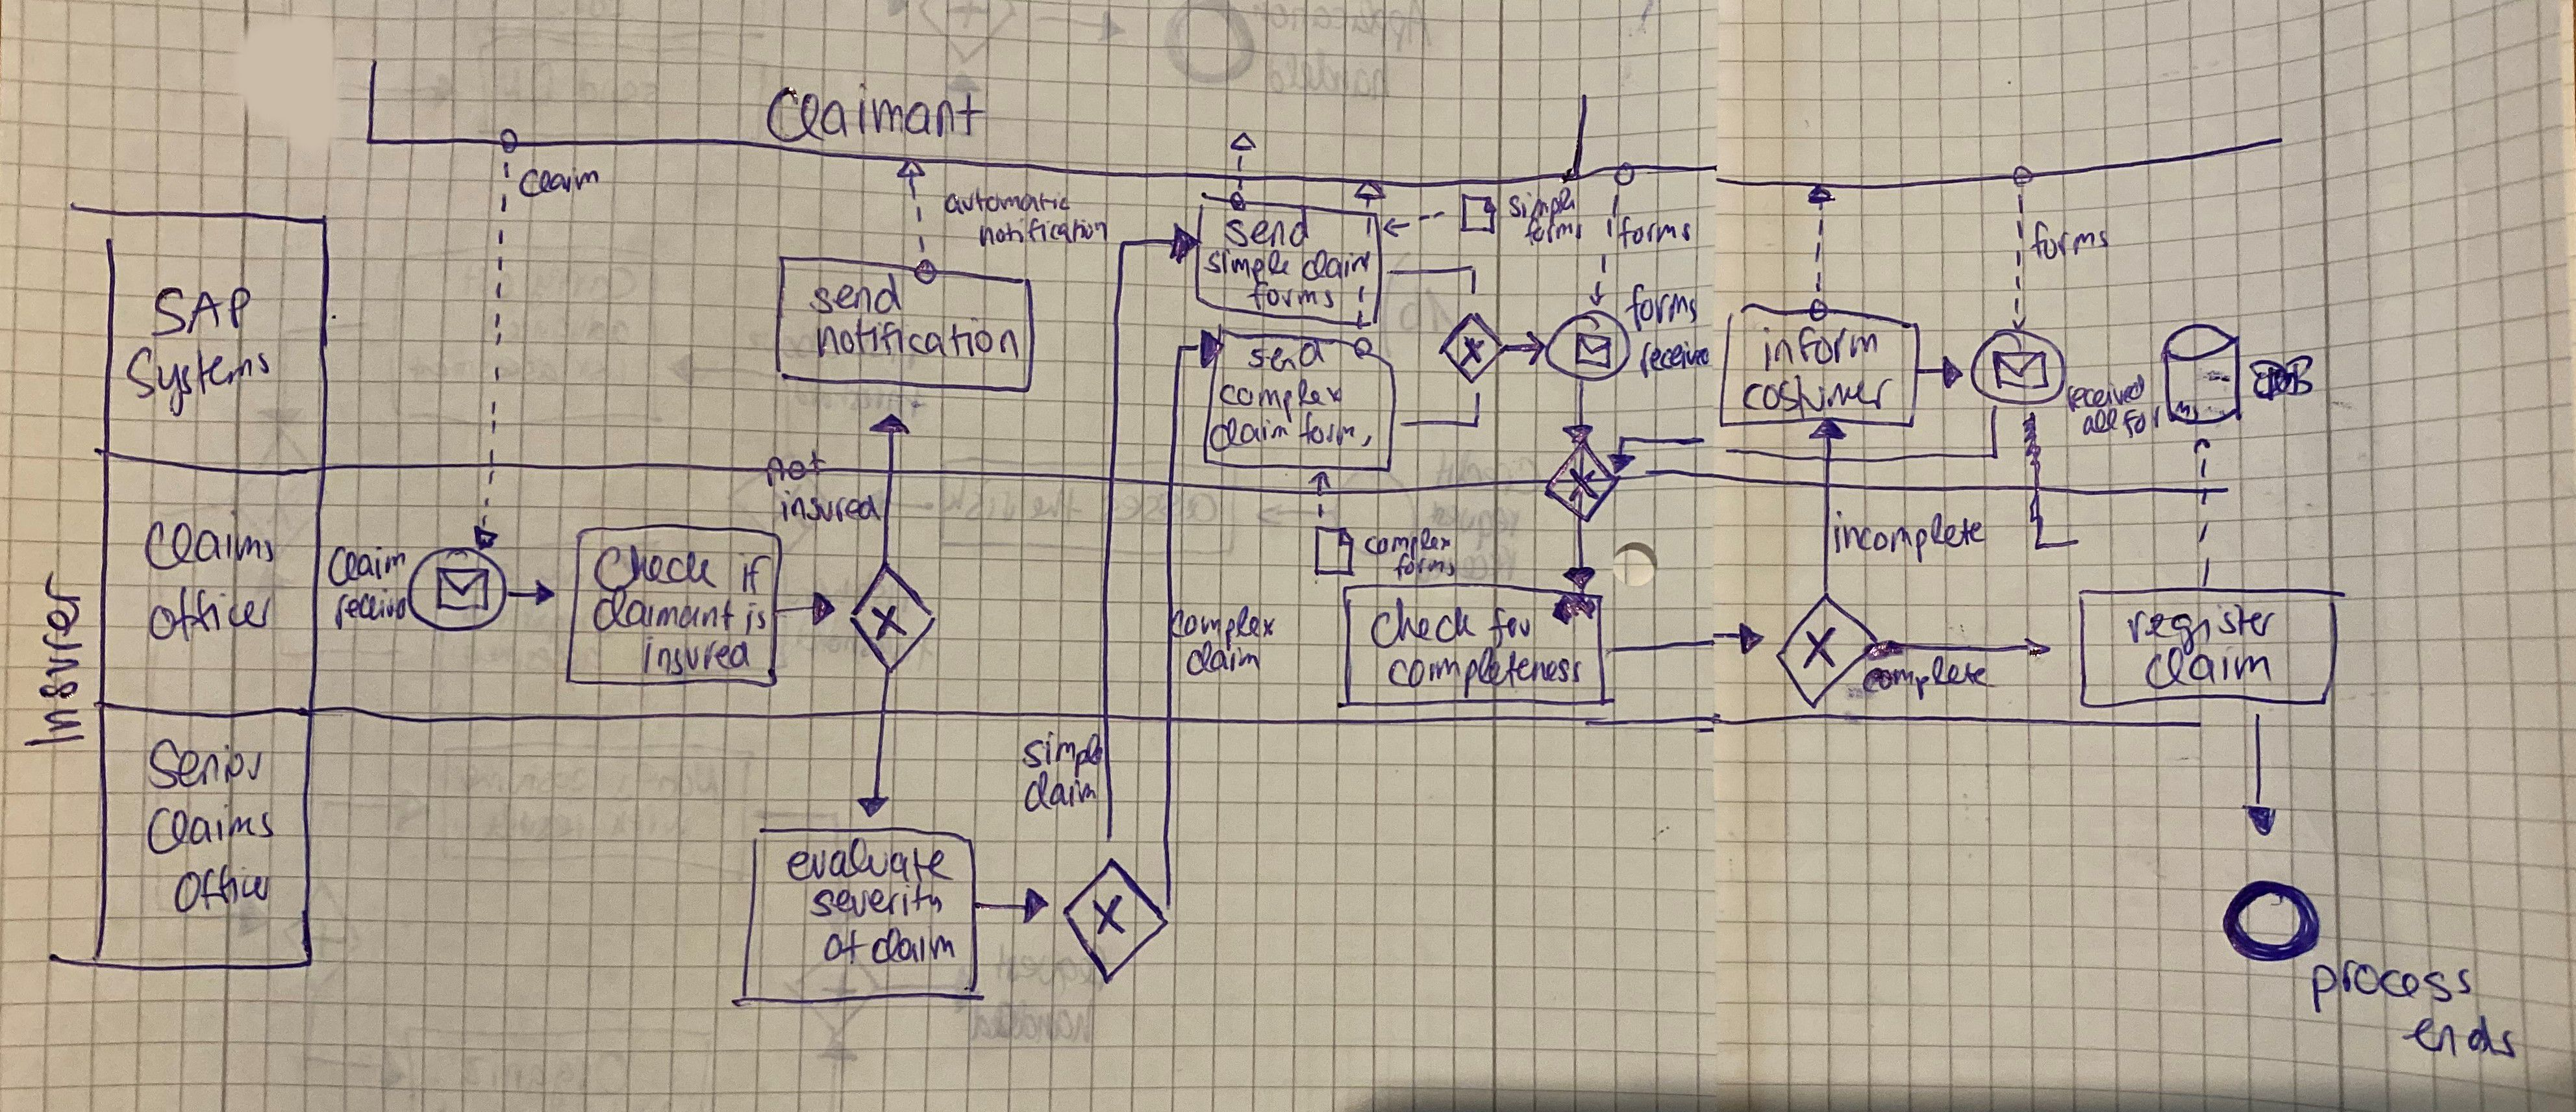Check: (595, 547, 721, 596)
Claim: (324, 542, 406, 583), (524, 168, 600, 195)
Claimant: (767, 85, 982, 140)
Claims: (140, 521, 271, 568)
DB: (2247, 356, 2313, 407)
Insured: (637, 639, 751, 677)
Insurer: (31, 572, 85, 752)
Officer: (171, 862, 269, 917)
SAP: (154, 281, 255, 343)
Simple: (1199, 248, 1295, 279), (1505, 187, 1577, 220)
Systems: (122, 335, 276, 402)
all: (2077, 407, 2118, 439)
automatic: (941, 186, 1073, 220)
check: (1372, 601, 1474, 650)
claim: (2142, 646, 2274, 688), (1017, 774, 1101, 816), (877, 928, 958, 967), (1209, 416, 1290, 452), (1181, 644, 1255, 677), (1301, 248, 1372, 281)
claimant: (588, 593, 728, 637)
claims: (140, 792, 276, 859)
complete: (1858, 652, 2001, 703)
completeness: (1385, 649, 1580, 692)
complex: (1166, 604, 1273, 644), (1221, 379, 1344, 409), (1359, 527, 1451, 558)
costumer: (1738, 370, 1894, 416)
ends: (2412, 1017, 2518, 1059)
evaluate: (784, 841, 946, 885)
for: (1490, 609, 1533, 646)
forms: (1618, 286, 1699, 329), (2024, 218, 2108, 258), (1295, 414, 1373, 448), (1245, 283, 1336, 310), (2118, 401, 2198, 432), (1613, 217, 1689, 245), (1391, 554, 1454, 580), (1525, 218, 1584, 245)
if: (726, 549, 769, 598)
incomplete: (1820, 512, 1985, 558)
inform: (1758, 327, 1879, 368)
insured: (775, 493, 887, 526)
is: (743, 603, 766, 634)
not: (766, 445, 826, 488)
notification: (816, 320, 1017, 361), (977, 215, 1107, 248)
of: (816, 926, 866, 966)
officer: (149, 588, 273, 642)
process: (2311, 961, 2474, 1007)
received: (1631, 338, 1712, 376), (2063, 376, 2144, 407), (327, 588, 402, 618)
register: (2126, 603, 2272, 646)
send: (808, 273, 912, 317), (1249, 338, 1331, 373), (1227, 215, 1304, 248)
senior: (151, 739, 263, 790)
severity: (813, 884, 946, 921)
simple: (1022, 733, 1106, 774)
